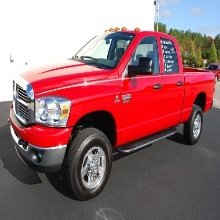no damage: (7, 27, 215, 201)
